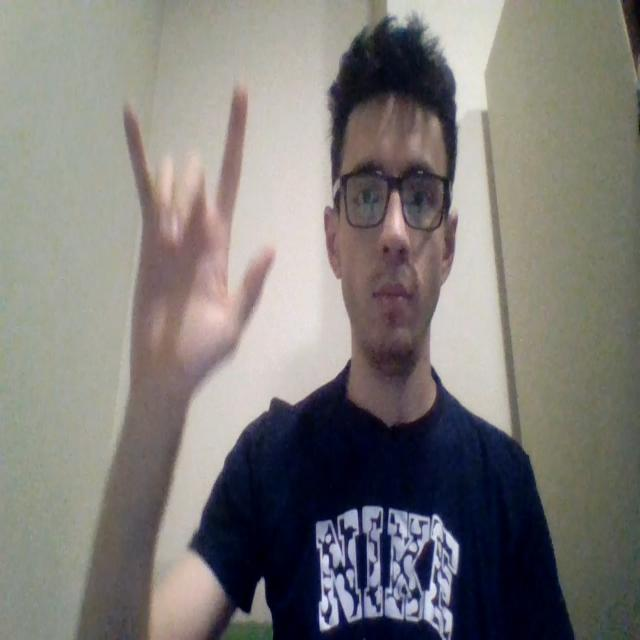iloveyou: (121, 82, 276, 405)
